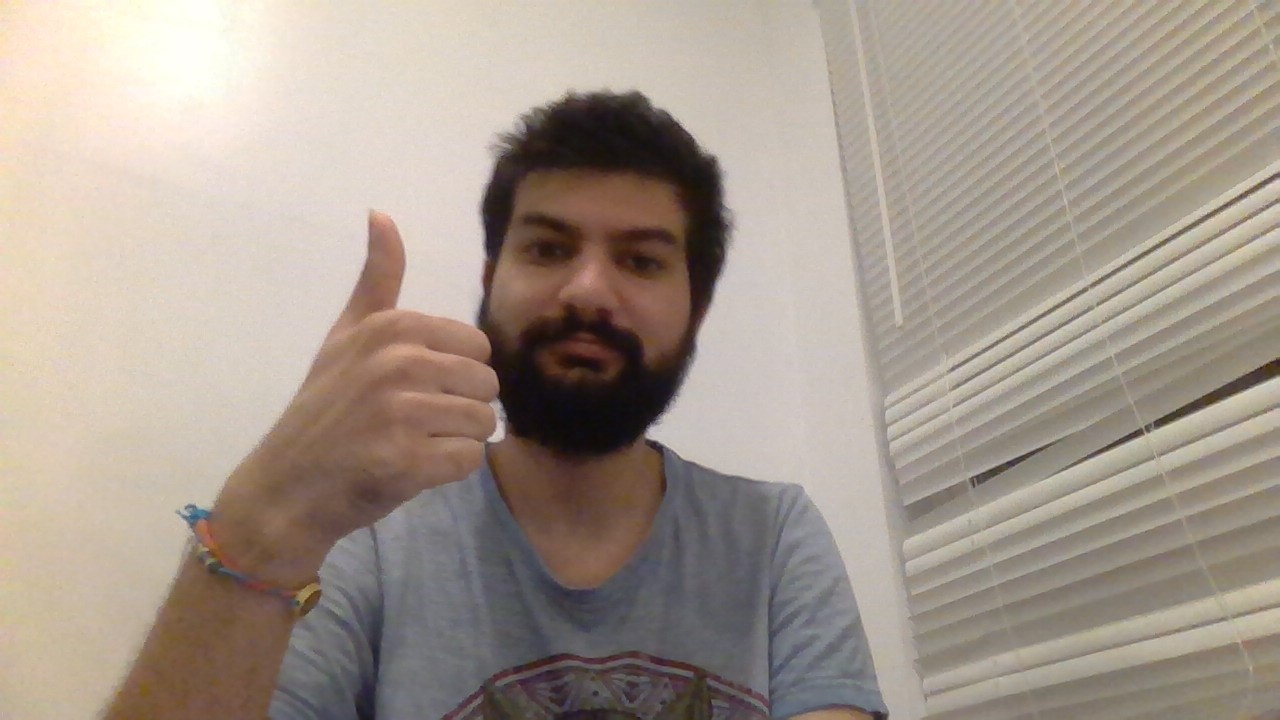up: (294, 200, 508, 511)
